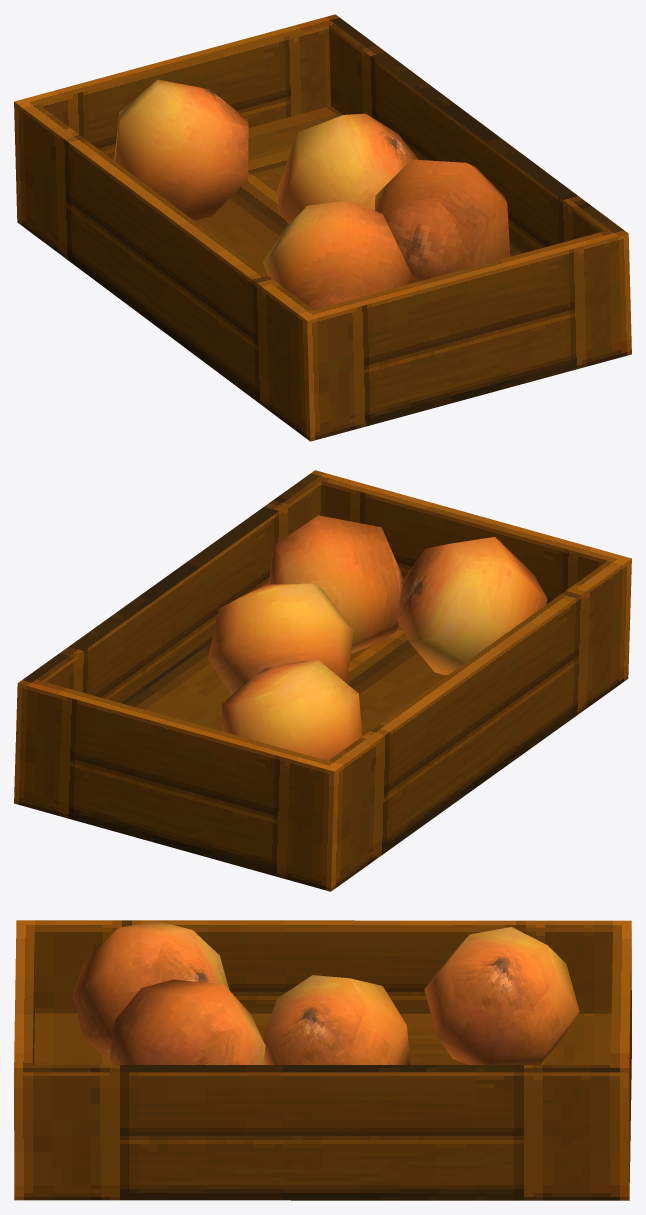
File: INST_HTOWN_BOXOFORANGES.fbx
3 views of the same model, one above another, from view 1: azimuth 30°, elevation 25°; view 2: azimuth 150°, elevation 25°; view 3: azimuth 270°, elevation 25° (orthographic). The views are drawn at different scales.
Visible parts, largest first — view 1: INST_HTOWN_BOXOFORANGES; view 2: INST_HTOWN_BOXOFORANGES; view 3: INST_HTOWN_BOXOFORANGES.
Part boxes in pixels (x1,y1,x2,y2): INST_HTOWN_BOXOFORANGES: [14, 14, 631, 441]; INST_HTOWN_BOXOFORANGES: [14, 470, 631, 891]; INST_HTOWN_BOXOFORANGES: [14, 920, 631, 1200].
Size of the model in its own units: 4252 by 2044 by 6705.
Materials: 2 (2 with a texture image).
